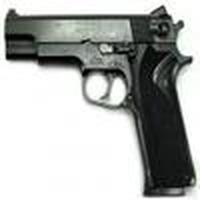gun: (4, 7, 198, 197)
